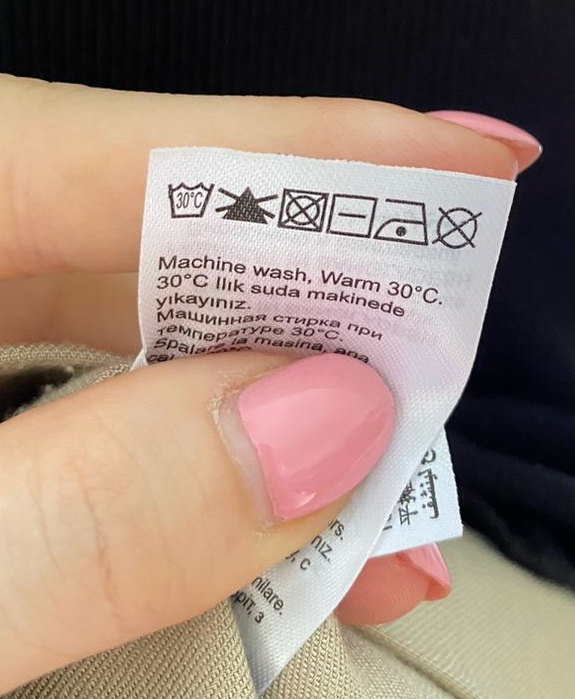do_not_bleach: (211, 185, 279, 225)
do_not_dry_clean: (429, 206, 485, 252)
do_not_tumble_drying: (274, 189, 330, 232)
dry_flat: (324, 192, 380, 238)
ironing_at_low_temp: (373, 196, 435, 247)
wash_at_or_below_30: (165, 178, 217, 221)
